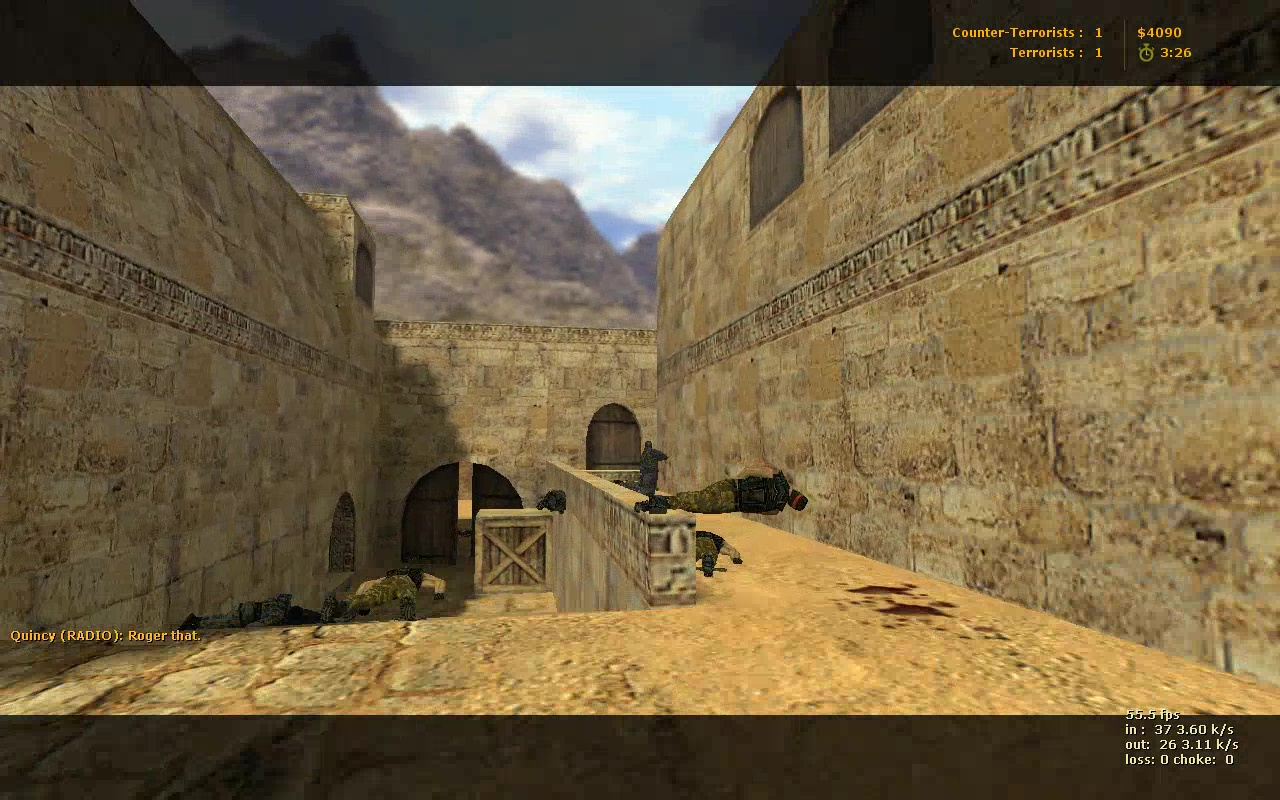ct: (638, 438, 667, 501)
dead: (636, 464, 809, 519), (323, 566, 446, 620), (176, 592, 304, 635), (681, 529, 744, 575)
